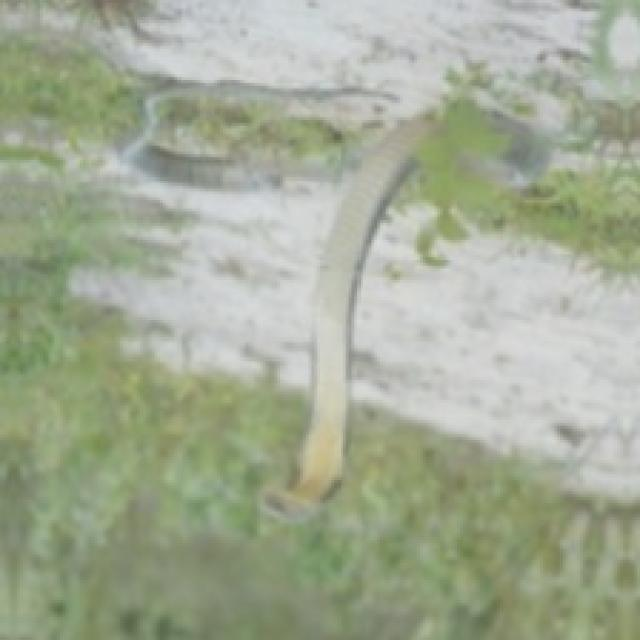king cobra: (266, 111, 437, 514)
